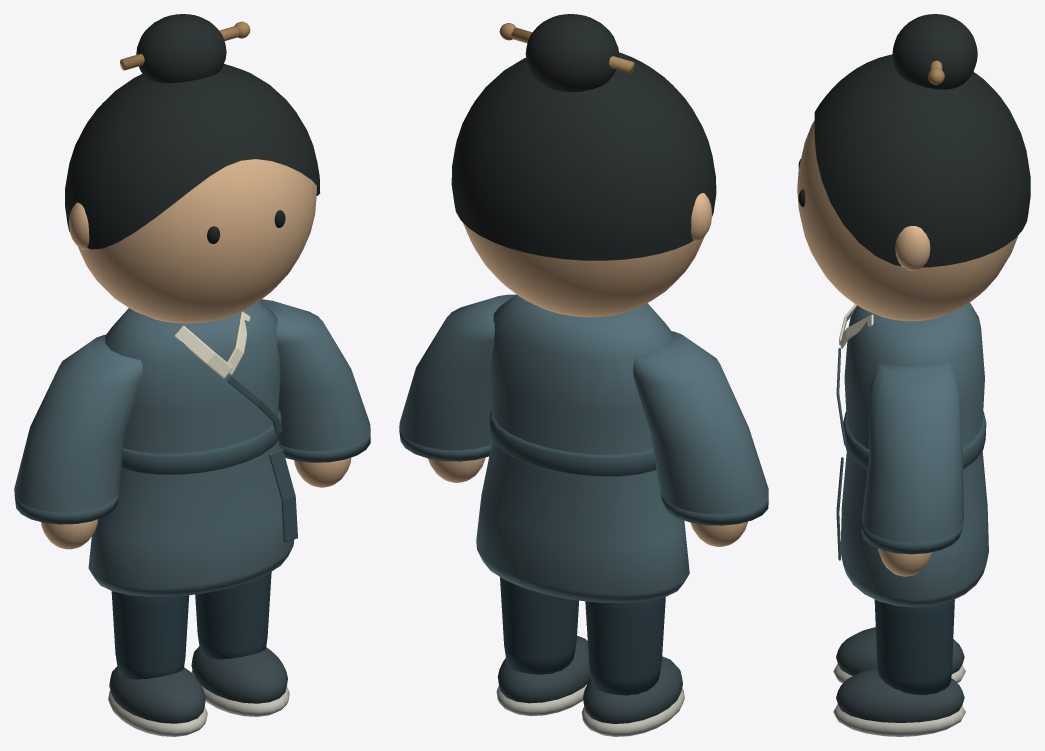
The model's file is visitor.gltf.
3 views of the same model, side by side, from view 1: azimuth 30°, elevation 25°; view 2: azimuth 150°, elevation 25°; view 3: azimuth 270°, elevation 25° (orthographic). The views are drawn at different scales.
Visible parts, largest first — view 1: Tunic_Main, Hair_Cap, Head, Sleeve_L, Sleeve_R, Trouser_L, Trouser_R, Hair_Topknot, Shoe_L, Shoe_R, Waist_Sash, Sash_Tail (+10 smaller); view 2: Tunic_Main, Hair_Cap, Sleeve_L, Sleeve_R, Head, Trouser_L, Trouser_R, Hair_Topknot, Waist_Sash, Shoe_L, Shoe_R, Sole_L (+6 smaller); view 3: Hair_Cap, Tunic_Main, Sleeve_R, Head, Trouser_R, Hair_Topknot, Shoe_R, Sole_R, Shoe_L, Ear_R, Cuff_R, Waist_Sash (+1 smaller).
Boxes of the visible parts, left/top/right/bottom form: Tunic_Main: left=88, top=301, right=294, bottom=596; Hair_Cap: left=65, top=64, right=319, bottom=249; Head: left=78, top=159, right=316, bottom=323; Sleeve_L: left=14, top=334, right=142, bottom=512; Sleeve_R: left=259, top=299, right=370, bottom=451; Trouser_L: left=111, top=591, right=189, bottom=679; Trouser_R: left=195, top=572, right=271, bottom=659; Hair_Topknot: left=136, top=14, right=226, bottom=82; Shoe_L: left=109, top=666, right=205, bottom=723; Shoe_R: left=191, top=646, right=287, bottom=703; Waist_Sash: left=121, top=410, right=281, bottom=474; Sash_Tail: left=269, top=448, right=297, bottom=542; Tunic_Main: left=476, top=294, right=689, bottom=603; Hair_Cap: left=451, top=52, right=716, bottom=260; Sleeve_L: left=633, top=331, right=768, bottom=514; Sleeve_R: left=399, top=294, right=515, bottom=450; Head: left=463, top=223, right=704, bottom=317; Trouser_L: left=585, top=597, right=665, bottom=695; Trouser_R: left=500, top=577, right=578, bottom=674; Hair_Topknot: left=525, top=14, right=619, bottom=92; Waist_Sash: left=490, top=409, right=656, bottom=476; Shoe_L: left=583, top=656, right=682, bottom=723; Shoe_R: left=497, top=635, right=590, bottom=703; Sole_L: left=581, top=688, right=684, bottom=736; Hair_Cap: left=814, top=54, right=1030, bottom=267; Tunic_Main: left=840, top=302, right=988, bottom=607; Sleeve_R: left=861, top=361, right=963, bottom=542; Head: left=797, top=120, right=1018, bottom=321; Trouser_R: left=874, top=599, right=954, bottom=695; Hair_Topknot: left=892, top=14, right=977, bottom=89; Shoe_R: left=836, top=667, right=964, bottom=722; Sole_R: left=833, top=704, right=965, bottom=736; Shoe_L: left=836, top=627, right=964, bottom=675; Ear_R: left=895, top=226, right=930, bottom=270; Cuff_R: left=861, top=520, right=963, bottom=554; Waist_Sash: left=843, top=411, right=986, bottom=469.
Bounding box in the file's own units: 0.612 × 1.16 × 0.3557.
